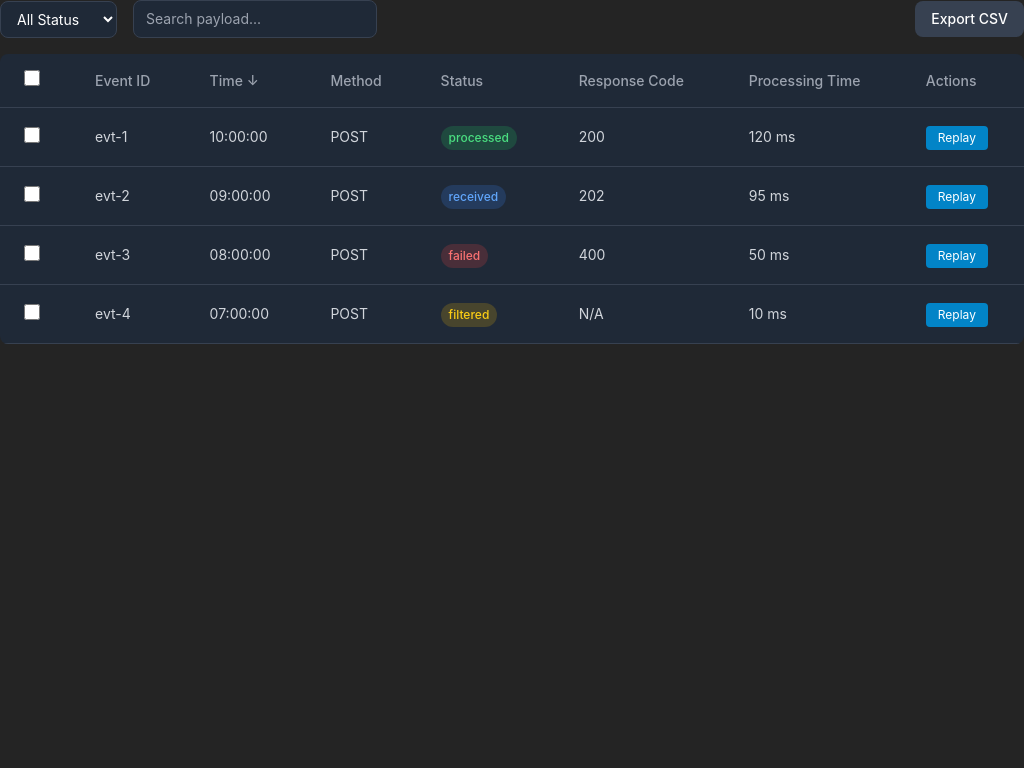
Scenario: WebhookEventHistory › Event Detail Modal › should close modal when clicking close button
Click the text "evt-1". click: (128, 137)
box: [71,108,186,166]
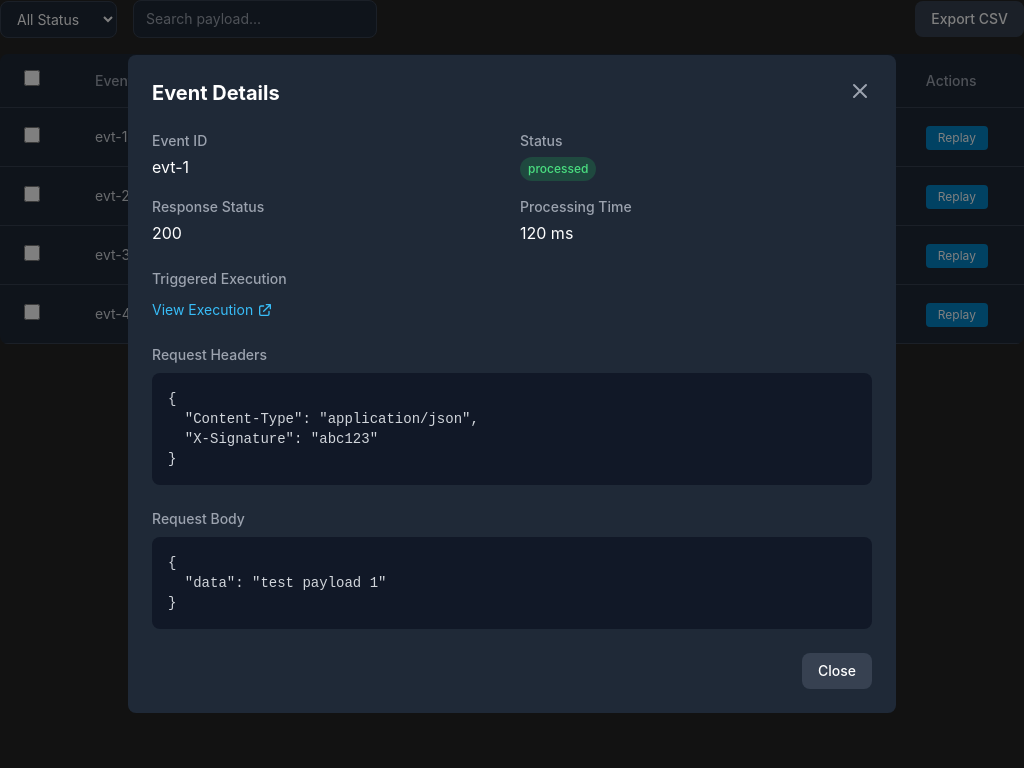
Check: the dialog is shown
Click the button with aria-label "Close modal". click: (837, 671)
box: [802,653,872,689]
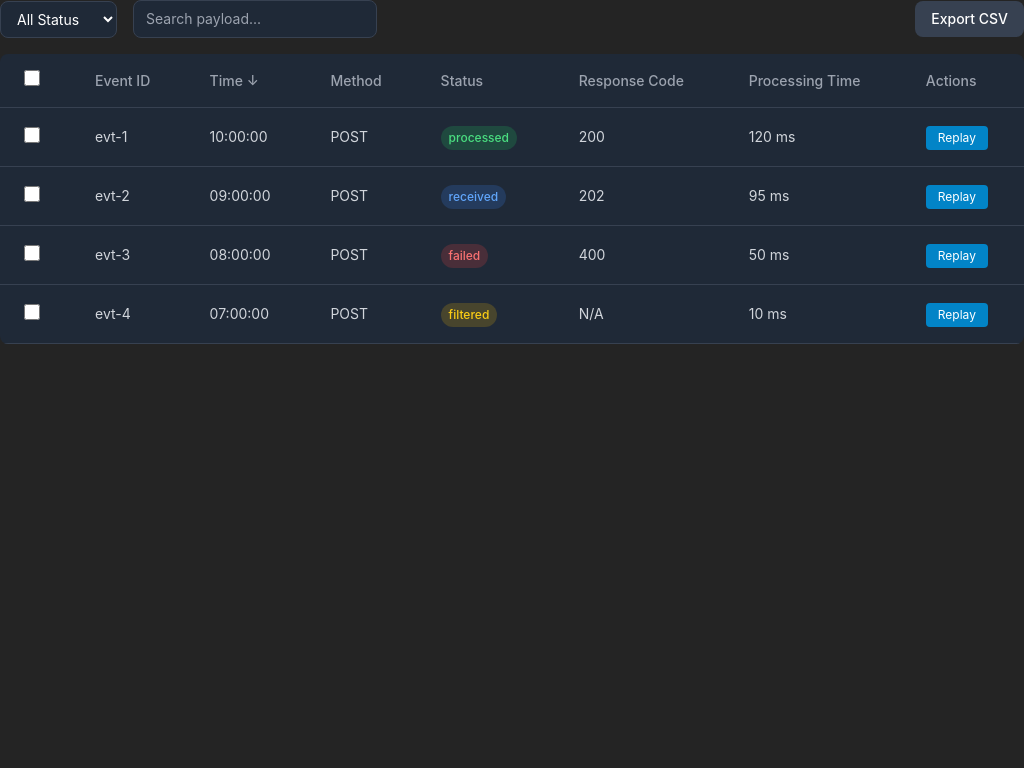
Check: the dialog is gone
